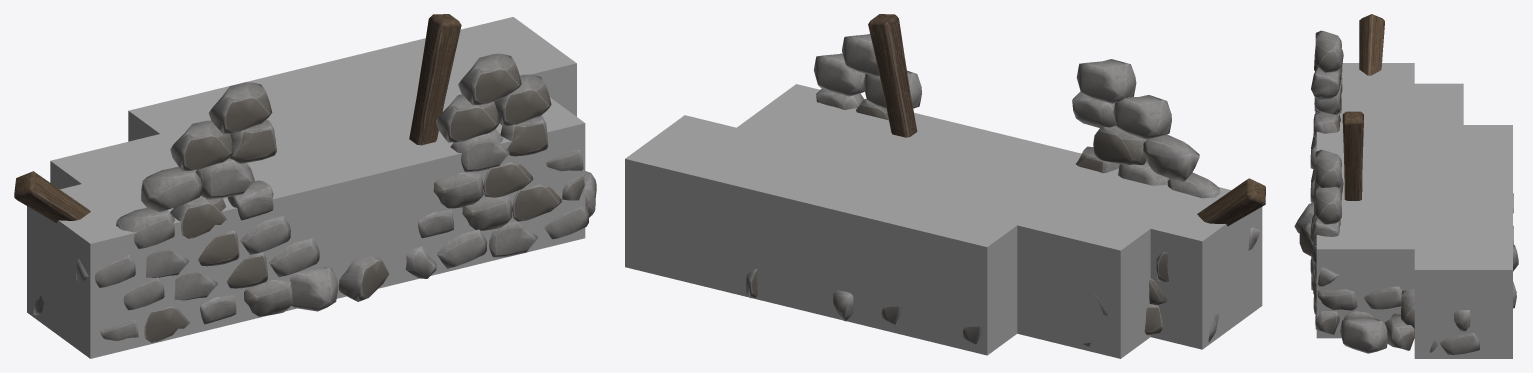
Rendered from moyen_ruin_variant_3.fbx.
The picture shows the model from 3 angles, left to right: view 1: azimuth 30°, elevation 25°; view 2: azimuth 150°, elevation 25°; view 3: azimuth 270°, elevation 25°; orthographic projection. The views are drawn at different scales.
Visible parts, largest first — view 1: standardCube1, brick3_low18; view 2: standardCube1, brick3_low18; view 3: standardCube1, brick3_low18.
Part boxes in pixels (x1,y1,x2,y2): standardCube1: [27, 17, 585, 358]; brick3_low18: [14, 14, 596, 342]; standardCube1: [625, 84, 1262, 358]; brick3_low18: [746, 14, 1265, 346]; standardCube1: [1316, 63, 1512, 358]; brick3_low18: [1294, 14, 1518, 354].
Bounding box in the file's own units: 1081 × 422 × 457.
2 materials, 1 textured.
